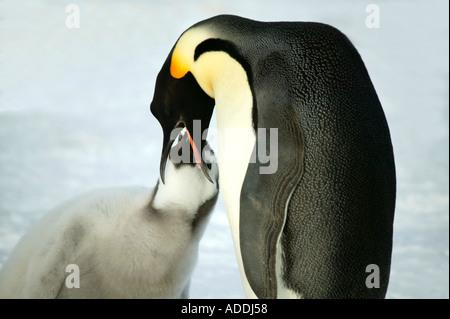emporer: (120, 7, 404, 316)
